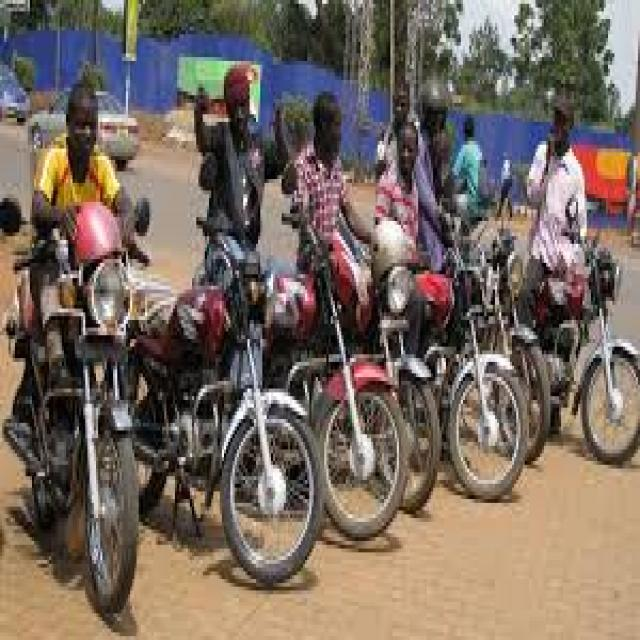bodaboda: (0, 133, 196, 639), (145, 188, 326, 614), (309, 168, 452, 573), (530, 161, 640, 500)
